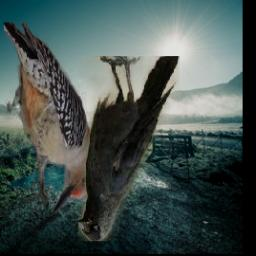Crow: (78, 57, 180, 242)
Woodpecker: (4, 23, 103, 213)
